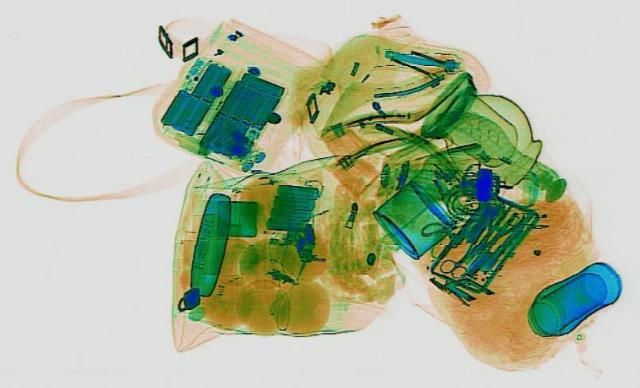Pliers: (462, 203, 528, 253)
Scissors: (431, 240, 487, 277)
